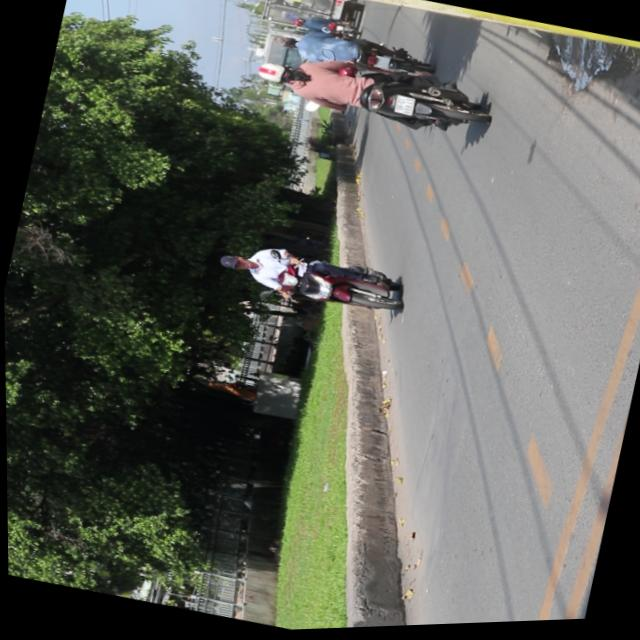helmet: (251, 60, 294, 90)
licenseplate: (245, 38, 490, 157), (210, 233, 407, 329)
motorcyclist: (215, 252, 252, 276)
nohelmet: (390, 97, 415, 120)
